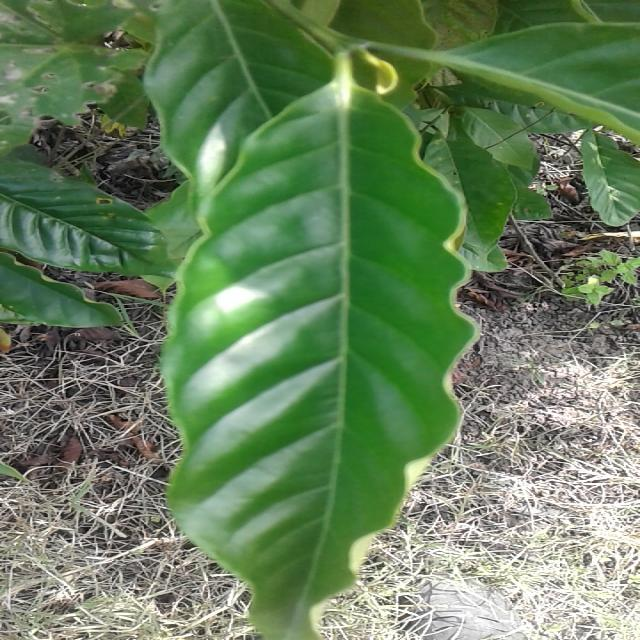Sanas: (159, 28, 478, 640)
